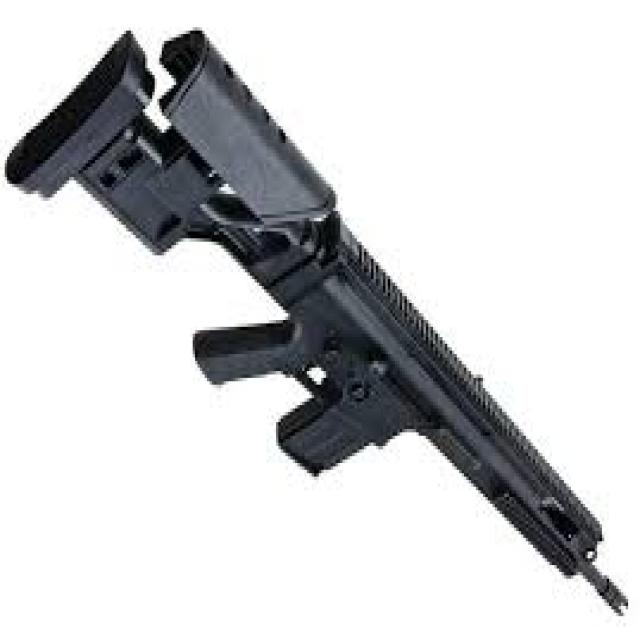Gun: (9, 32, 615, 620)
